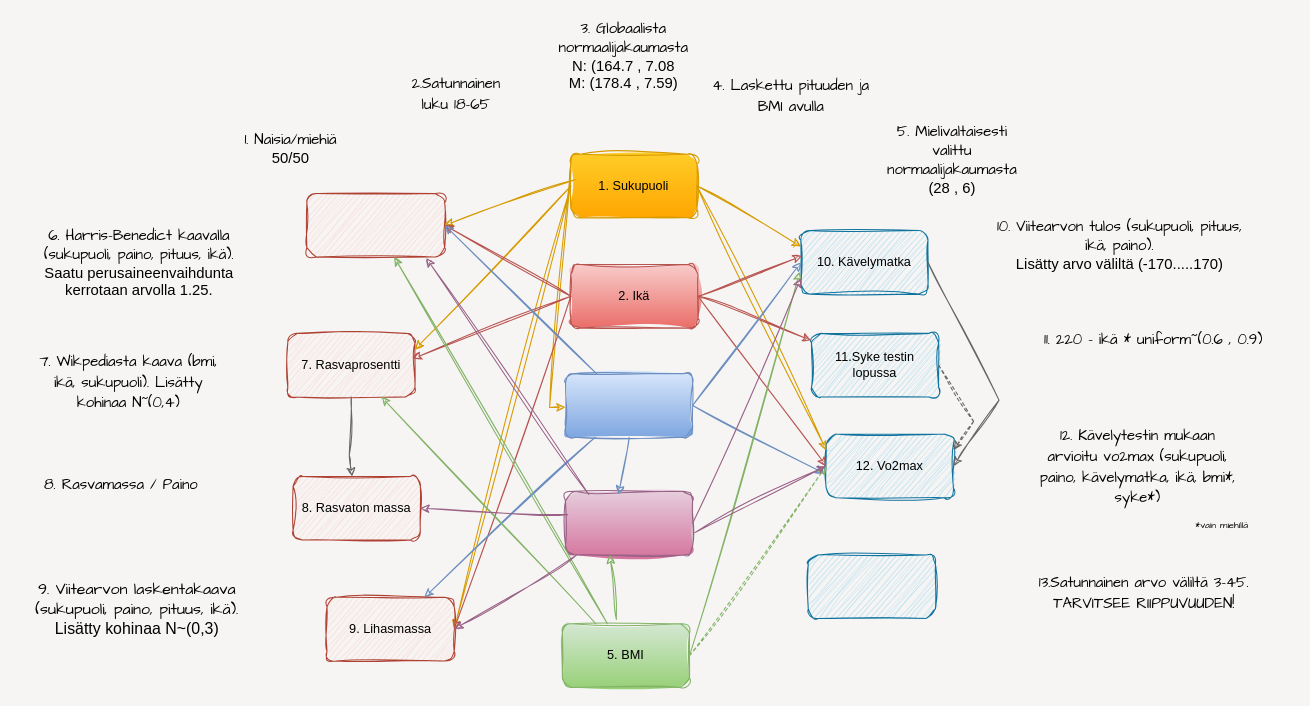
The diagram is 1310 pixels wide and 706 high, and some of its shapes have lost their labels. The centre of each missing label's shape, as x and y in pixels:
"13. Lihasvoima (toistot)" belongs at pixel 871 586.
"3. Pituus" belongs at pixel 628 405.
"4. Paino" belongs at pixel 628 522.
"6. Vuorkokauden kulutus" belongs at pixel 375 224.
